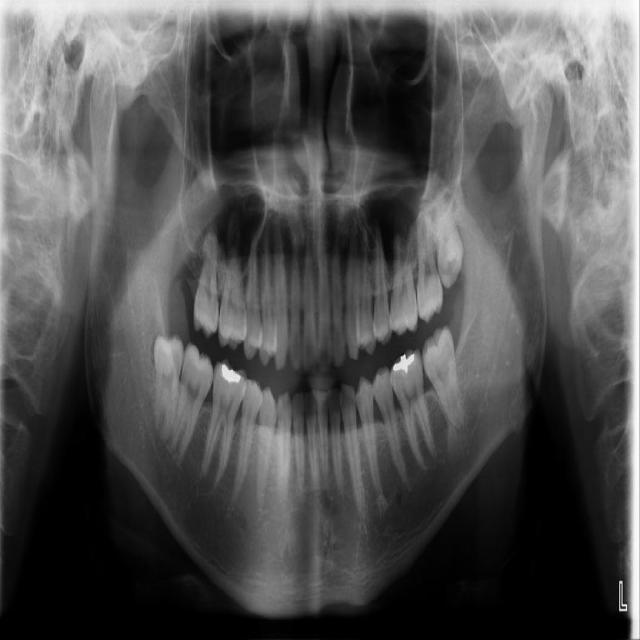Filling: (392, 352, 416, 375), (222, 366, 243, 385)
Periapical lesion: (377, 494, 387, 513)
impacted tooth: (154, 335, 185, 447), (436, 194, 464, 290)
